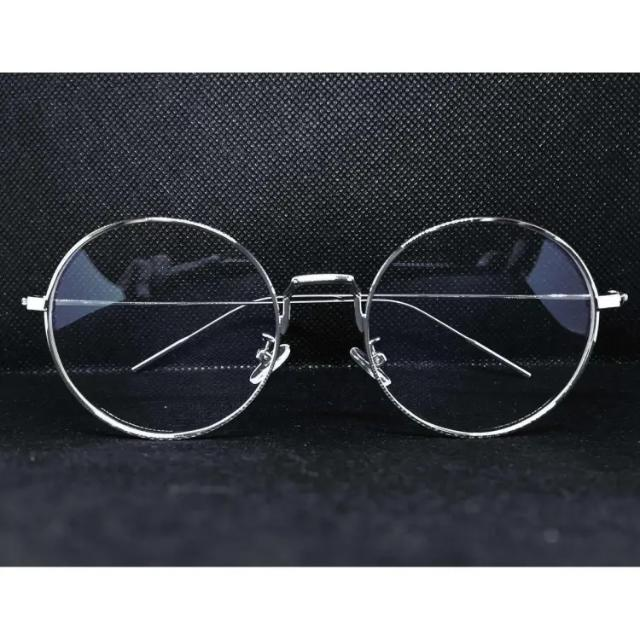glasses: (24, 213, 628, 437)
